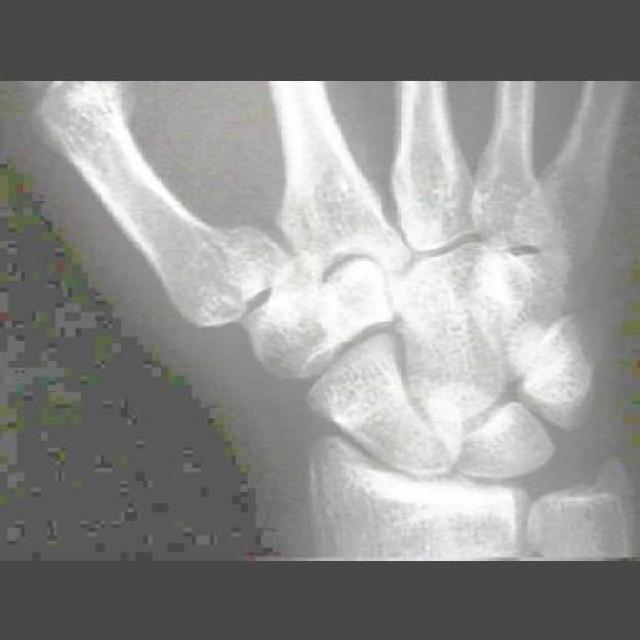Fracture: (182, 216, 270, 316)
